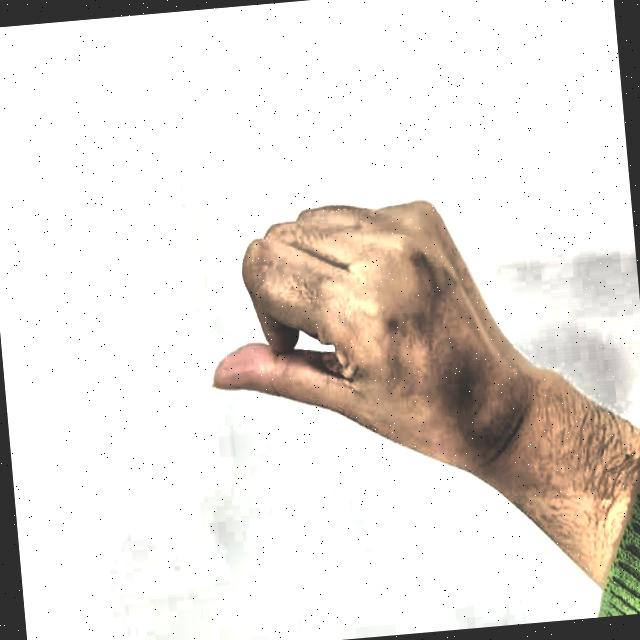Ay: (182, 138, 504, 529)
